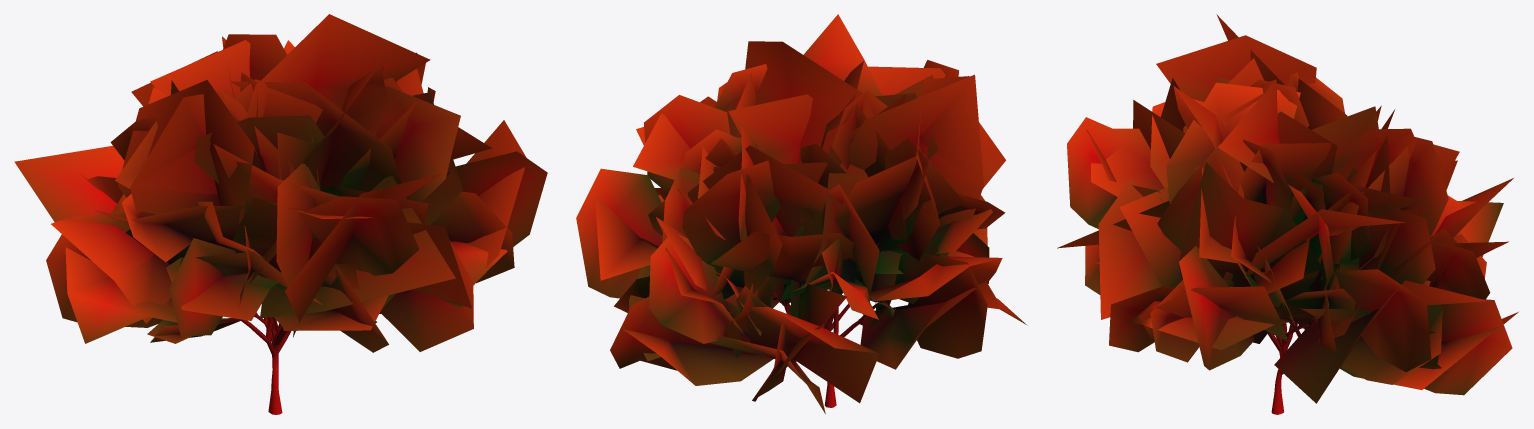
File: ShrubBush_C.fbx
The picture shows the model from 3 angles, left to right: view 1: azimuth 30°, elevation 25°; view 2: azimuth 150°, elevation 25°; view 3: azimuth 270°, elevation 25°; orthographic projection. The views are drawn at different scales.
Visible parts, largest first — view 1: ShrubBush_C_Leaves_LOD0, ShrubBush_C_Branch_LOD0; view 2: ShrubBush_C_Leaves_LOD0, ShrubBush_C_Branch_LOD0; view 3: ShrubBush_C_Leaves_LOD0, ShrubBush_C_Branch_LOD0.
Part boxes in pixels (x1=…): ShrubBush_C_Leaves_LOD0: x1=14, y1=14, x2=547, y2=352; ShrubBush_C_Branch_LOD0: x1=160, y1=258, x2=291, y2=414; ShrubBush_C_Leaves_LOD0: x1=576, y1=14, x2=1027, y2=413; ShrubBush_C_Branch_LOD0: x1=762, y1=242, x2=887, y2=407; ShrubBush_C_Leaves_LOD0: x1=1057, y1=14, x2=1518, y2=403; ShrubBush_C_Branch_LOD0: x1=1267, y1=319, x2=1318, y2=414.
Size of what is drawn, in the model's own units: 474 by 404 by 476.
